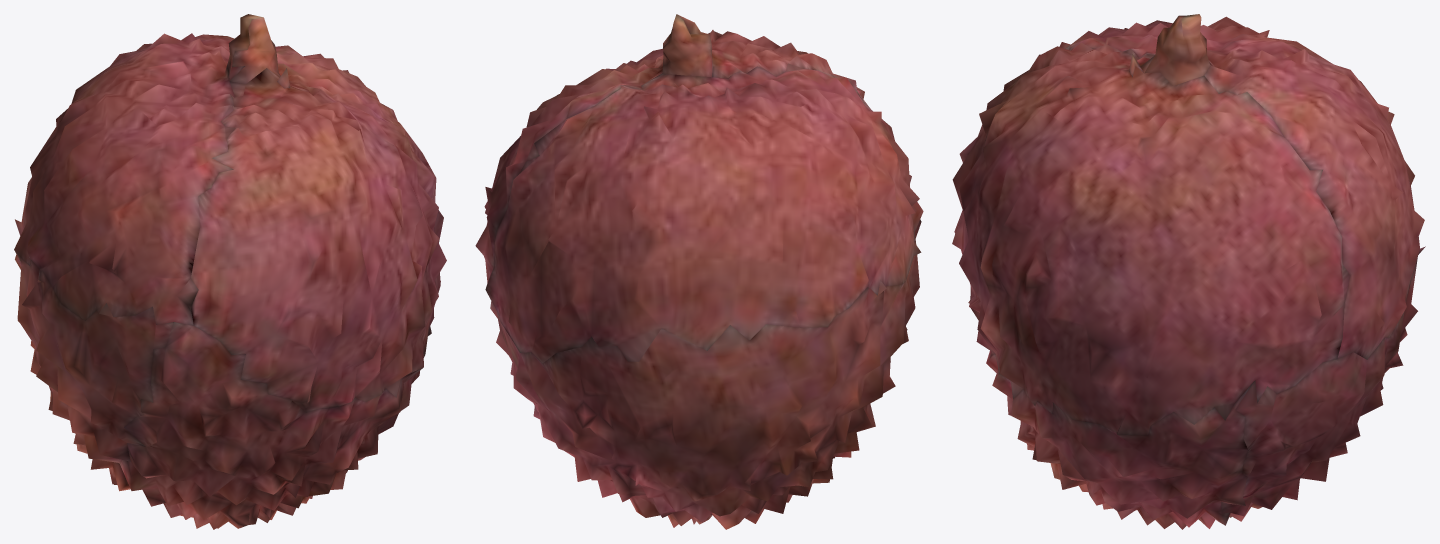
The model's file is lychee.glb.
3 renders of one model, left to right at view 1: azimuth 30°, elevation 25°; view 2: azimuth 150°, elevation 25°; view 3: azimuth 270°, elevation 25°, orthographic. The views are drawn at different scales.
Visible parts, largest first — view 1: food_lychee_01; view 2: food_lychee_01; view 3: food_lychee_01.
Boxes of the visible parts, x1,y1,x2,y2 form: food_lychee_01: (14, 14, 446, 529); food_lychee_01: (475, 14, 923, 529); food_lychee_01: (952, 14, 1425, 529).
Bounding box in the file's own units: 0.0409 × 0.0505 × 0.042.
1 material, 1 textured.
